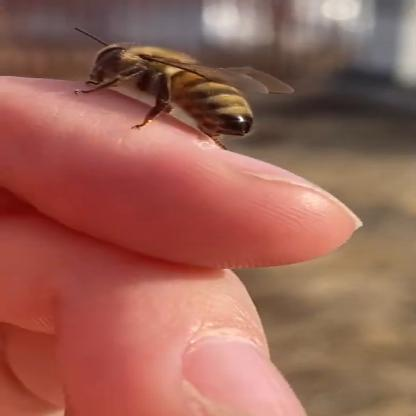bee: (69, 22, 292, 174)
